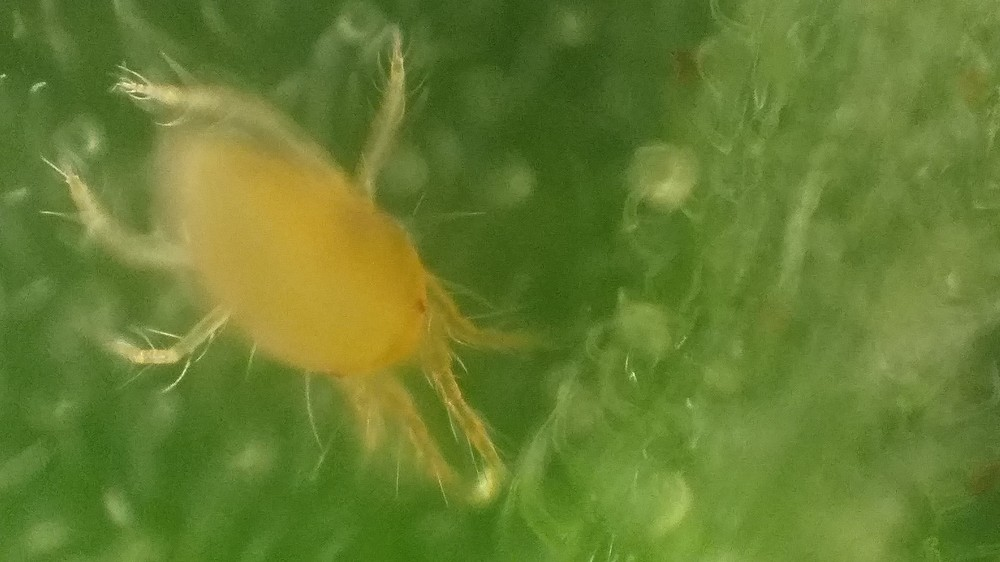Aracnido Rojo: (50, 31, 579, 518)
